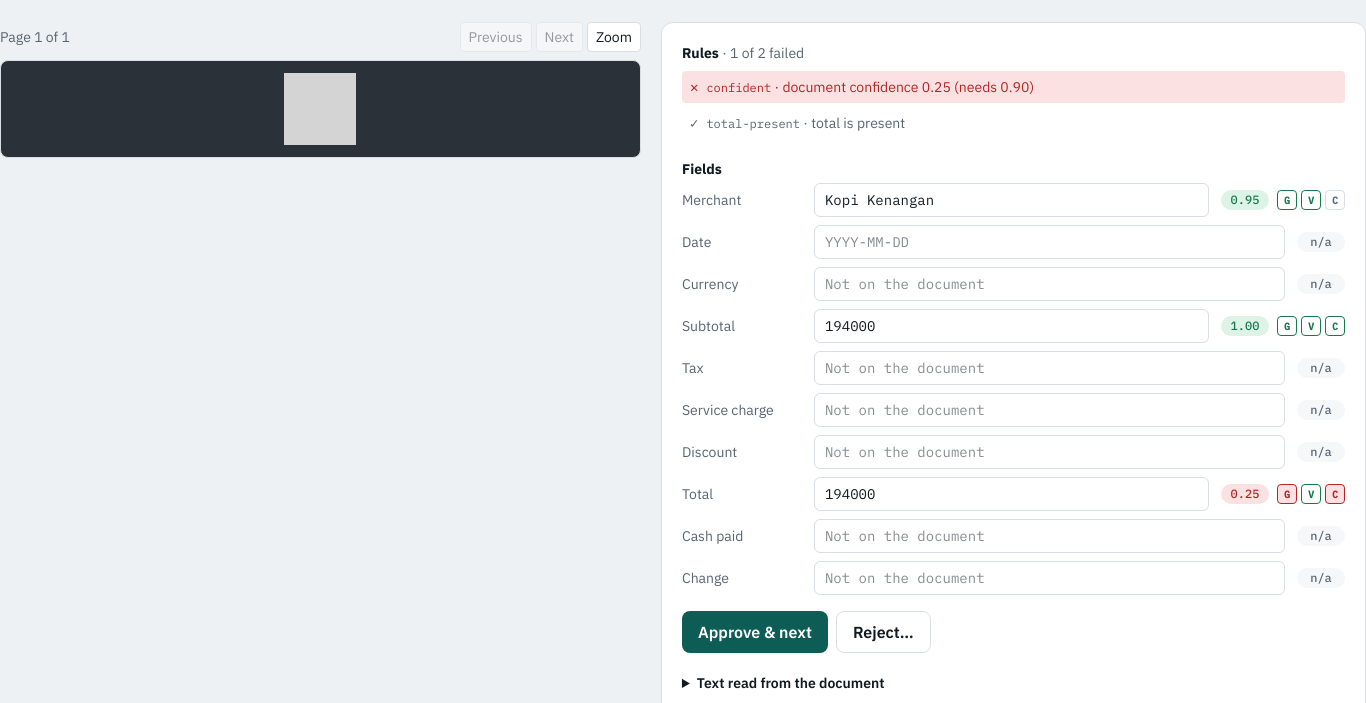
Test: ReviewPage › needs a reason to reject
The image size is (1366, 703).
Click the button "Reject…": coordinates (883, 632) [836, 611, 931, 653]
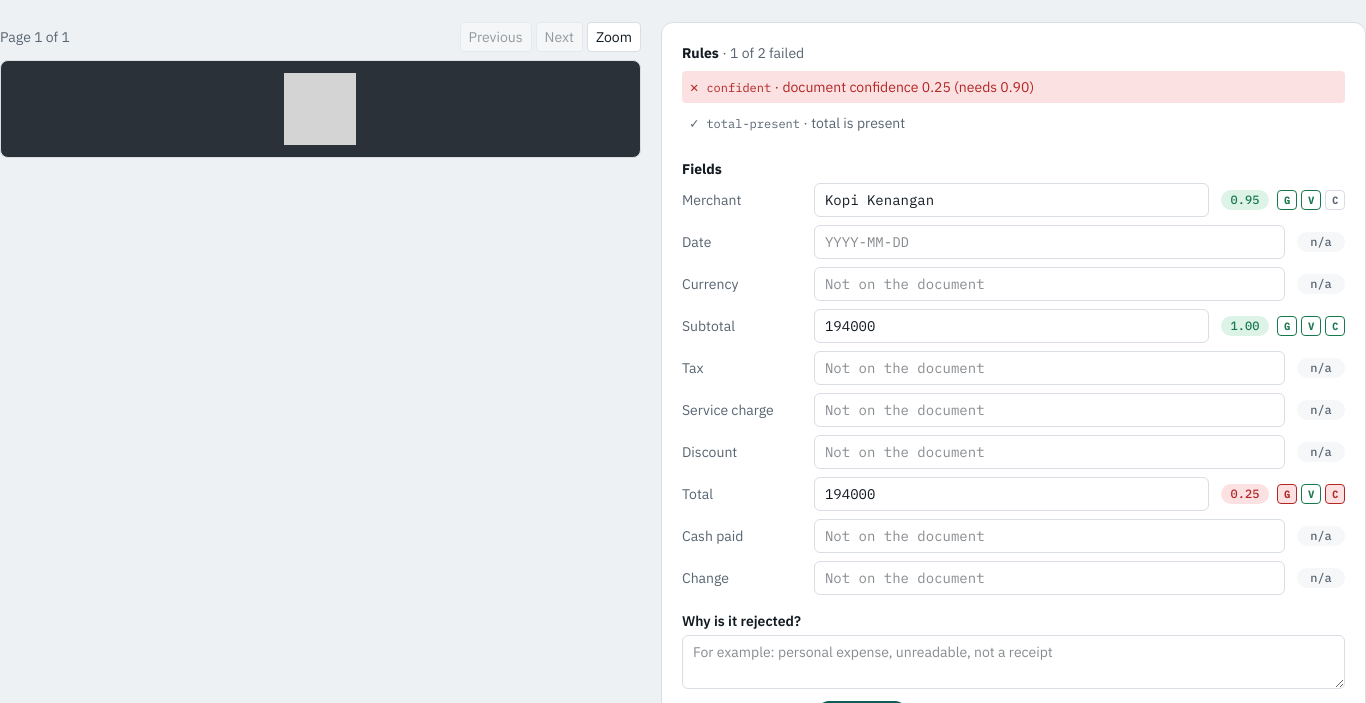
In the text box labelled "Why is it rejected?": coordinates (1013, 662) [682, 635, 1345, 689], type "Personal expense"
(page scrolled)
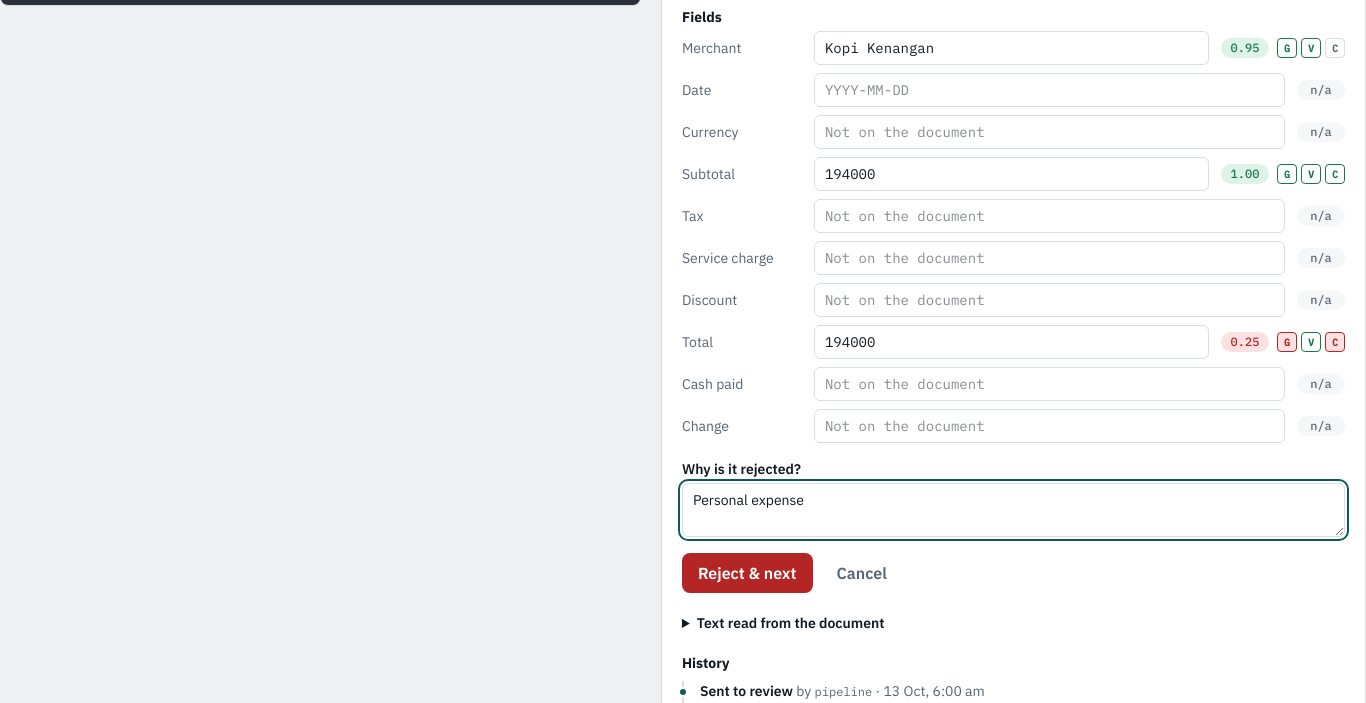
Result: the button "Reject & next" is enabled at [682, 553, 812, 593]
